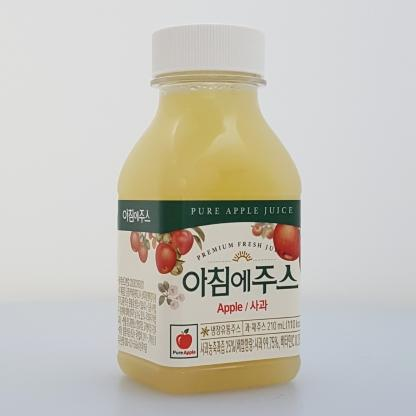-----------210ML: (117, 23, 302, 394)
